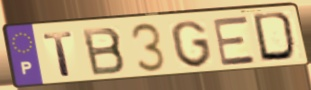3: (129, 21, 168, 74)
B: (80, 26, 129, 78)
D: (251, 10, 301, 64)
E: (210, 14, 259, 68)
G: (169, 19, 215, 69)
T: (41, 30, 76, 78)
